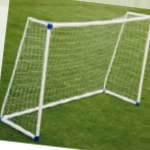goals: (1, 8, 150, 141)
